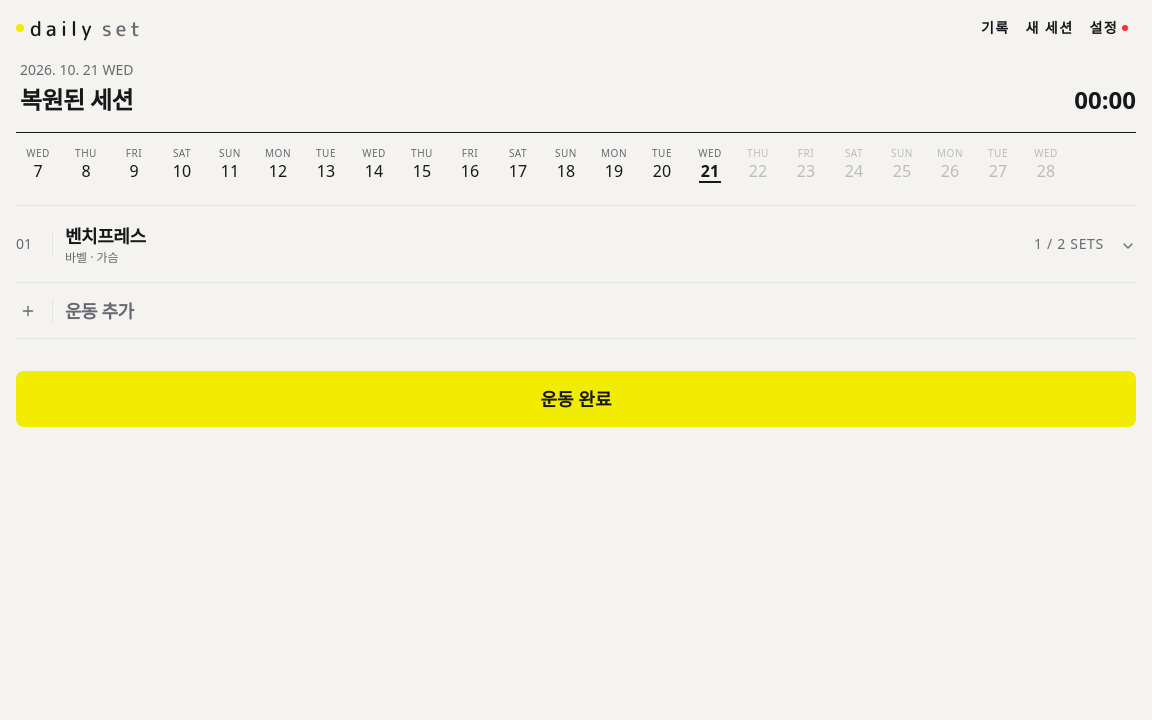
Scenario: RootClient — 새 세션 › 확인하면 draft를 지우고 라이브러리로 돌아간다
The width and height of the screenshot is (1152, 720).
Expected: the button "운동 완료" is shown, [16, 371, 1136, 427]
Click the button "새 세션": x=1049, y=28 [1018, 6, 1081, 50]
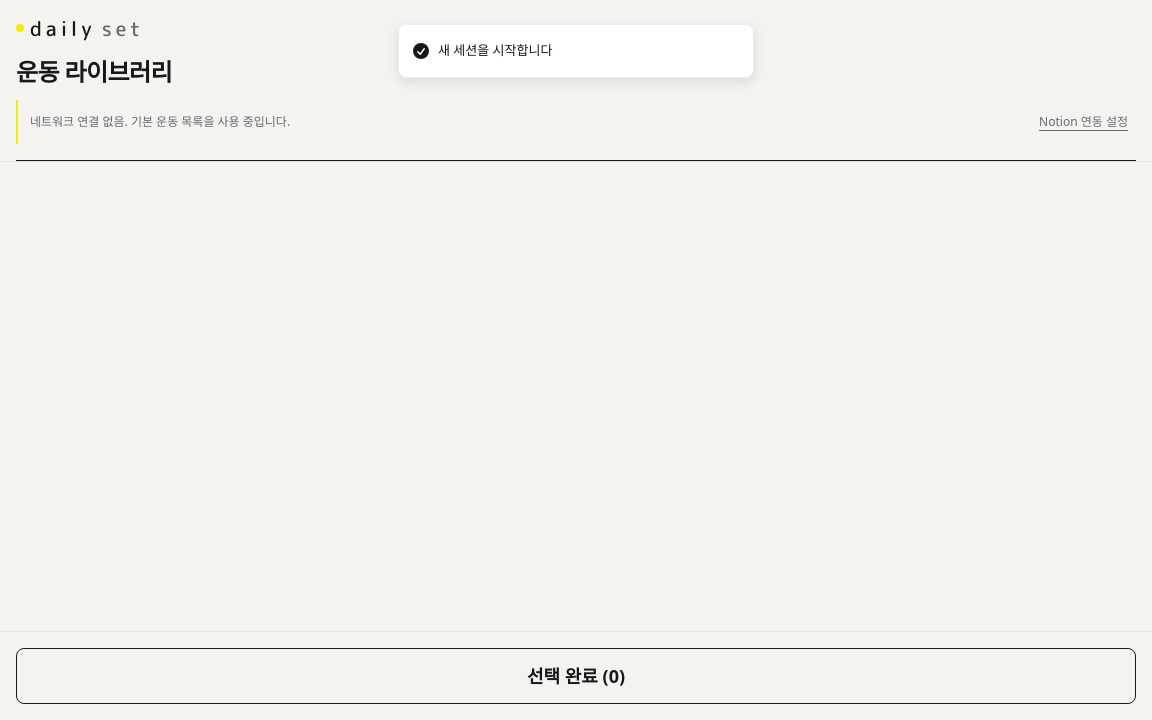
Now the heading "운동 라이브러리" is shown, box [16, 55, 172, 88]
